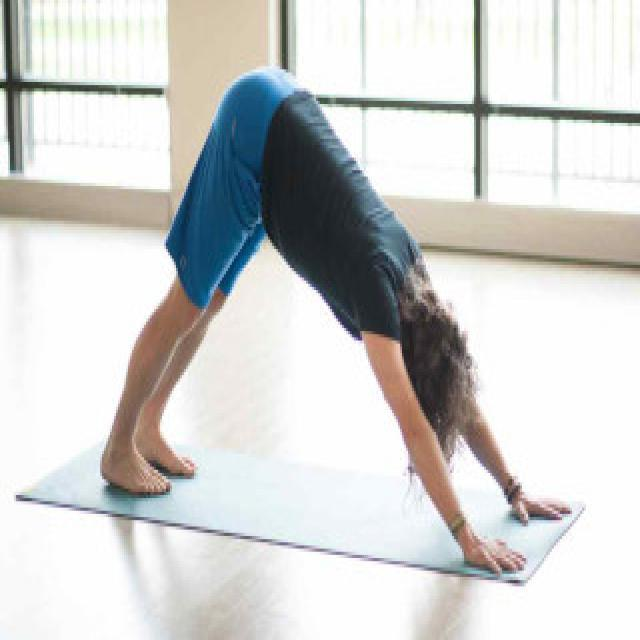yoga-pose downward: (94, 58, 566, 575)
